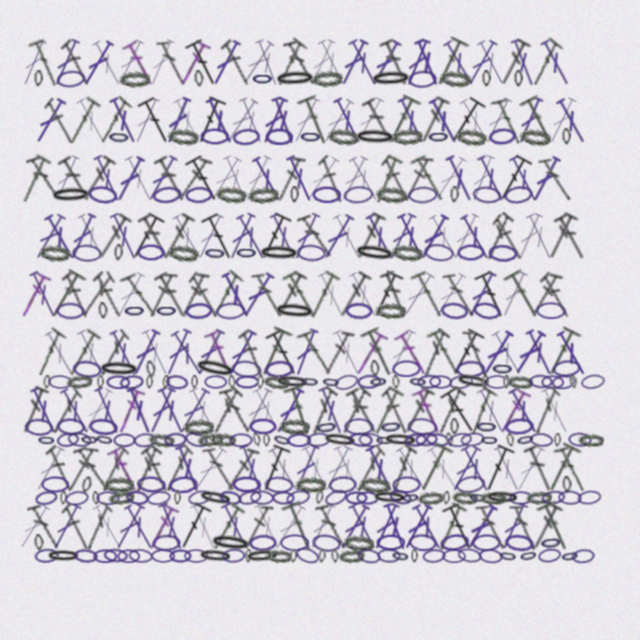chain: (193, 356, 237, 381), (353, 242, 396, 264), (209, 532, 252, 554), (273, 301, 316, 321), (274, 69, 316, 88), (370, 69, 412, 88), (354, 128, 396, 146), (50, 186, 92, 204), (258, 244, 300, 262), (98, 360, 140, 378), (197, 488, 234, 508), (455, 372, 491, 391), (423, 242, 455, 263), (472, 300, 502, 322), (87, 184, 118, 205), (503, 184, 534, 205), (455, 474, 486, 495), (439, 532, 470, 553), (322, 431, 358, 449), (455, 127, 487, 147), (519, 127, 551, 147), (247, 185, 279, 205), (167, 243, 199, 263), (231, 359, 262, 379), (311, 533, 342, 553), (311, 69, 343, 88), (439, 69, 471, 88), (167, 127, 199, 146), (327, 127, 359, 146), (391, 127, 423, 146), (215, 185, 247, 204), (375, 185, 407, 204), (391, 243, 423, 262), (56, 69, 86, 89), (152, 185, 182, 205), (472, 185, 502, 205), (72, 359, 102, 379), (88, 417, 118, 437), (504, 533, 534, 553), (343, 185, 374, 204), (407, 417, 438, 436), (232, 127, 261, 147), (440, 301, 469, 321), (56, 417, 86, 436), (504, 417, 534, 436), (136, 475, 166, 494), (168, 475, 198, 494), (294, 545, 321, 566), (275, 374, 310, 390), (383, 432, 418, 448), (198, 548, 233, 564), (245, 548, 280, 564), (119, 70, 150, 88), (39, 244, 70, 262), (183, 418, 214, 436), (359, 476, 390, 494), (343, 534, 374, 552), (488, 127, 517, 146), (552, 359, 581, 378), (328, 475, 357, 494), (408, 533, 437, 552), (323, 487, 349, 508), (72, 244, 102, 262), (296, 244, 326, 262), (264, 360, 294, 378), (333, 372, 360, 392), (24, 418, 54, 436), (183, 430, 210, 450), (264, 476, 294, 494), (375, 302, 406, 319), (279, 418, 310, 435), (103, 476, 134, 493), (295, 476, 326, 493), (372, 490, 407, 505), (485, 490, 520, 505), (408, 70, 437, 88), (408, 186, 437, 204), (488, 244, 517, 262), (56, 302, 85, 320), (216, 302, 245, 320), (456, 360, 485, 378), (152, 534, 181, 552), (536, 302, 566, 319), (344, 418, 374, 435), (185, 186, 213, 204), (185, 302, 213, 320), (345, 302, 373, 320), (249, 534, 277, 552), (314, 417, 339, 437), (187, 488, 213, 507), (237, 488, 263, 507), (285, 488, 311, 507), (200, 128, 229, 145), (312, 186, 341, 203), (392, 360, 421, 377), (232, 476, 261, 493), (392, 476, 421, 493), (280, 534, 309, 551), (376, 534, 405, 551), (472, 534, 501, 551), (46, 549, 81, 563), (265, 128, 293, 145), (137, 244, 165, 261), (457, 244, 485, 261), (249, 418, 277, 435), (41, 476, 69, 493), (388, 488, 413, 507), (448, 373, 474, 391), (447, 431, 473, 449), (64, 489, 90, 507), (146, 489, 172, 507), (356, 547, 382, 565), (66, 373, 93, 390), (197, 431, 224, 448), (108, 489, 135, 506), (379, 417, 403, 436), (539, 533, 563, 552), (34, 489, 59, 507), (218, 489, 243, 507), (580, 373, 606, 390), (107, 128, 131, 146), (203, 244, 227, 262), (263, 374, 290, 390), (148, 432, 175, 448), (417, 490, 444, 506), (338, 548, 365, 564), (67, 431, 92, 448), (460, 431, 485, 448), (541, 489, 566, 506), (577, 489, 602, 506), (457, 547, 482, 564), (537, 547, 562, 564), (507, 374, 533, 390), (56, 431, 80, 448), (125, 489, 149, 506), (119, 374, 144, 390), (551, 374, 576, 390), (358, 432, 383, 448), (425, 432, 450, 448), (529, 432, 554, 448), (73, 548, 98, 564), (128, 548, 153, 564), (478, 548, 503, 564), (271, 431, 293, 449), (251, 70, 274, 87), (299, 128, 322, 145), (427, 128, 450, 145), (235, 244, 258, 261), (123, 302, 146, 319), (155, 302, 178, 319), (491, 360, 514, 377), (475, 418, 498, 435), (210, 432, 236, 447), (452, 490, 478, 505), (526, 490, 552, 505), (165, 374, 189, 390), (133, 432, 157, 448), (404, 432, 428, 448), (422, 548, 446, 564), (571, 548, 595, 564), (306, 432, 331, 447), (348, 432, 373, 447), (34, 548, 59, 563), (103, 548, 128, 563), (578, 433, 604, 447), (480, 491, 506, 505), (266, 549, 292, 563), (357, 374, 381, 389), (417, 374, 441, 389), (529, 374, 553, 389), (568, 432, 592, 447), (250, 490, 274, 505), (558, 490, 582, 505), (377, 548, 401, 563), (94, 431, 115, 448), (515, 431, 536, 448), (518, 547, 539, 564), (164, 432, 187, 447), (415, 432, 438, 447), (222, 548, 245, 563), (48, 375, 72, 389), (106, 375, 130, 389), (235, 375, 259, 389), (485, 375, 509, 389), (229, 433, 253, 447), (287, 433, 311, 447), (96, 491, 120, 505), (509, 491, 533, 505), (93, 549, 117, 563), (151, 549, 175, 563), (184, 549, 208, 563), (390, 548, 411, 564), (442, 549, 466, 563), (204, 375, 227, 389), (429, 375, 452, 389), (541, 375, 564, 389), (113, 433, 136, 447), (272, 491, 295, 505), (345, 491, 368, 505), (356, 491, 379, 505), (117, 549, 140, 563), (169, 549, 192, 563), (321, 374, 341, 390), (498, 548, 518, 564), (560, 548, 580, 564), (300, 374, 320, 389), (408, 374, 428, 389), (468, 490, 488, 505), (369, 374, 388, 389), (80, 432, 99, 447), (401, 490, 420, 505), (37, 433, 56, 447), (375, 433, 394, 447), (480, 433, 499, 447), (80, 476, 93, 494), (145, 360, 157, 378), (194, 70, 204, 87), (98, 302, 108, 319), (370, 360, 380, 377), (562, 476, 572, 493), (34, 534, 44, 551), (34, 70, 43, 87), (482, 70, 491, 87), (514, 70, 523, 87), (562, 128, 571, 145), (290, 186, 299, 203), (450, 186, 459, 203), (114, 244, 123, 261), (450, 418, 459, 435), (252, 432, 262, 447), (569, 374, 578, 389), (445, 432, 454, 447), (315, 490, 324, 505), (506, 433, 515, 447), (43, 375, 51, 389), (162, 375, 170, 389), (228, 375, 236, 389), (392, 375, 400, 389), (481, 375, 489, 389), (92, 491, 100, 505), (318, 549, 326, 563), (331, 549, 339, 563), (97, 375, 104, 389), (146, 375, 153, 389), (191, 375, 198, 389), (257, 375, 264, 389), (503, 375, 510, 389), (263, 433, 270, 447), (554, 433, 561, 447), (60, 491, 67, 505), (174, 491, 181, 505), (443, 491, 450, 505), (245, 549, 252, 563), (290, 549, 297, 563), (411, 549, 418, 563)
double: (503, 268, 545, 321), (445, 95, 487, 147), (45, 269, 87, 321), (439, 385, 481, 437), (519, 94, 560, 147), (493, 153, 534, 205), (430, 36, 470, 89), (382, 94, 422, 147), (542, 326, 582, 379), (414, 442, 454, 495), (542, 442, 582, 495), (119, 270, 161, 320), (136, 95, 176, 147), (184, 153, 224, 205), (126, 211, 166, 263), (264, 327, 304, 379), (446, 327, 486, 379), (360, 326, 399, 379), (536, 500, 575, 553), (189, 444, 230, 494), (62, 95, 102, 146), (94, 95, 134, 146), (62, 327, 102, 378), (296, 327, 336, 378), (206, 501, 246, 552), (184, 37, 223, 89), (200, 211, 239, 263), (174, 501, 213, 553), (255, 326, 293, 379), (281, 500, 319, 553), (398, 270, 438, 320), (526, 37, 565, 88), (206, 269, 245, 320), (255, 211, 293, 263), (367, 269, 405, 321), (473, 269, 511, 321), (441, 501, 479, 553), (297, 94, 334, 147), (238, 38, 278, 87), (222, 96, 262, 145), (302, 154, 342, 203), (440, 38, 479, 88), (30, 96, 69, 146), (318, 96, 357, 146), (456, 96, 495, 146), (78, 154, 117, 204), (206, 154, 245, 204), (30, 212, 69, 262), (94, 212, 133, 262), (318, 212, 357, 262), (238, 270, 277, 320), (430, 270, 469, 320), (168, 328, 207, 378), (478, 328, 517, 378), (488, 328, 527, 378), (510, 328, 549, 378), (174, 386, 213, 436), (392, 444, 431, 494), (14, 502, 53, 552), (270, 502, 309, 552), (462, 502, 501, 552), (271, 37, 309, 88), (537, 37, 575, 88), (143, 153, 181, 204), (409, 153, 447, 204), (281, 269, 319, 320), (303, 269, 341, 320), (345, 269, 383, 320), (425, 327, 463, 378), (367, 385, 405, 436), (191, 95, 228, 147), (479, 443, 516, 495), (430, 154, 469, 203), (424, 444, 463, 493), (79, 38, 117, 88), (57, 154, 95, 204), (345, 154, 383, 204), (41, 212, 79, 262), (425, 212, 463, 262), (153, 270, 191, 320), (335, 270, 373, 320), (41, 328, 79, 378), (351, 328, 389, 378), (393, 328, 431, 378), (553, 328, 591, 378), (265, 444, 303, 494), (89, 502, 127, 552), (335, 502, 373, 552), (345, 37, 382, 88), (473, 37, 510, 88), (351, 95, 388, 146), (15, 153, 52, 204), (121, 153, 158, 204), (409, 269, 446, 320), (463, 269, 500, 320), (31, 327, 68, 378), (73, 327, 110, 378), (329, 327, 366, 378), (185, 385, 222, 436), (239, 385, 276, 436), (249, 385, 286, 436), (473, 385, 510, 436), (537, 385, 574, 436), (319, 443, 356, 494), (553, 443, 590, 494), (345, 501, 382, 552), (431, 501, 468, 552), (490, 95, 526, 147), (368, 153, 404, 205), (256, 443, 292, 495), (89, 38, 126, 88), (121, 38, 158, 88), (175, 38, 212, 88), (367, 38, 404, 88), (463, 38, 500, 88), (73, 96, 110, 146), (361, 96, 398, 146), (425, 96, 462, 146), (553, 96, 590, 146), (111, 154, 148, 204), (153, 154, 190, 204), (249, 154, 286, 204), (527, 154, 564, 204), (137, 212, 174, 262), (159, 212, 196, 262), (169, 212, 206, 262), (233, 212, 270, 262), (329, 212, 366, 262), (415, 212, 452, 262), (457, 212, 494, 262), (553, 212, 590, 262), (111, 270, 148, 320), (223, 328, 260, 378), (57, 386, 94, 436), (79, 386, 116, 436), (271, 386, 308, 436), (345, 386, 382, 436), (495, 386, 532, 436), (505, 386, 542, 436), (31, 444, 68, 494), (447, 444, 484, 494), (511, 444, 548, 494), (111, 502, 148, 552), (121, 502, 158, 552), (399, 502, 436, 552), (409, 502, 446, 552), (314, 37, 350, 88), (202, 95, 238, 146), (288, 95, 324, 146), (330, 95, 366, 146), (544, 95, 580, 146), (74, 211, 110, 262), (106, 211, 142, 262), (266, 211, 302, 262), (522, 211, 558, 262), (192, 327, 228, 378), (298, 443, 334, 494), (78, 271, 117, 318), (464, 385, 499, 437), (297, 212, 334, 261), (207, 386, 244, 435), (73, 444, 110, 493), (283, 384, 317, 437), (208, 38, 244, 88), (496, 38, 532, 88), (170, 96, 206, 146), (336, 154, 372, 204), (506, 154, 542, 204), (362, 212, 398, 262), (16, 270, 52, 320), (218, 270, 254, 320), (272, 270, 308, 320), (314, 270, 350, 320), (106, 328, 142, 378), (400, 386, 436, 436), (106, 444, 142, 494), (362, 444, 398, 494), (458, 444, 494, 494), (48, 502, 84, 552), (144, 502, 180, 552), (528, 502, 564, 552), (175, 155, 213, 202), (112, 37, 147, 88), (336, 37, 371, 88), (106, 95, 141, 146), (394, 95, 429, 146), (416, 95, 451, 146), (480, 95, 515, 146), (90, 153, 125, 204), (240, 153, 275, 204), (442, 153, 477, 204), (474, 153, 509, 204), (192, 211, 227, 262), (224, 211, 259, 262), (352, 211, 387, 262), (384, 211, 419, 262), (394, 211, 429, 262), (448, 211, 483, 262), (544, 211, 579, 262), (26, 269, 61, 320), (128, 327, 163, 378), (138, 327, 173, 378), (384, 327, 419, 378), (522, 327, 557, 378), (144, 385, 179, 436), (154, 385, 189, 436), (330, 443, 365, 494), (490, 443, 525, 494), (218, 501, 253, 552), (496, 501, 531, 552), (223, 445, 260, 493), (27, 37, 61, 89), (26, 154, 62, 203), (336, 386, 372, 435), (49, 37, 83, 88), (305, 37, 339, 88), (379, 37, 413, 88), (129, 95, 163, 146), (161, 95, 195, 146), (257, 95, 291, 146), (49, 153, 83, 204), (219, 153, 253, 204), (283, 153, 317, 204), (65, 211, 99, 262), (289, 211, 323, 262), (497, 269, 531, 320), (161, 327, 195, 378), (203, 327, 237, 378), (27, 385, 61, 436), (411, 385, 445, 436), (289, 443, 323, 494), (523, 443, 557, 494), (187, 501, 221, 552), (251, 501, 285, 552), (305, 501, 339, 552), (369, 501, 403, 552), (538, 155, 574, 203), (490, 213, 526, 261), (186, 271, 222, 319), (48, 387, 84, 435), (480, 212, 515, 261), (442, 270, 477, 319), (528, 270, 563, 319), (432, 386, 467, 435), (202, 444, 237, 493), (283, 38, 317, 88), (417, 328, 451, 378), (305, 386, 339, 436), (129, 444, 163, 494), (27, 502, 61, 552), (17, 37, 50, 88), (145, 37, 178, 88), (251, 37, 284, 88), (401, 37, 434, 88), (411, 37, 444, 88), (507, 37, 540, 88), (235, 95, 268, 146), (513, 95, 546, 146), (513, 211, 546, 262), (379, 269, 412, 320), (91, 385, 124, 436), (113, 385, 146, 436), (123, 385, 156, 436), (315, 385, 348, 436), (155, 501, 188, 552), (42, 97, 77, 145), (538, 271, 573, 319), (96, 329, 131, 377), (352, 445, 387, 493), (59, 38, 93, 87), (219, 38, 253, 87), (379, 154, 413, 203), (91, 270, 125, 319), (251, 270, 285, 319), (321, 328, 355, 377), (65, 444, 99, 493), (97, 444, 131, 493), (161, 444, 195, 493), (59, 502, 93, 551), (219, 386, 252, 436), (385, 444, 418, 494), (315, 502, 348, 552), (466, 153, 498, 204), (290, 327, 322, 378), (18, 385, 50, 436), (172, 443, 204, 494), (236, 443, 268, 494), (401, 154, 434, 203), (379, 386, 412, 435), (139, 444, 172, 493), (241, 502, 274, 551), (475, 502, 508, 551), (268, 95, 299, 146), (380, 501, 411, 552), (156, 38, 188, 87), (274, 154, 306, 203), (60, 270, 92, 319), (146, 270, 178, 319), (178, 270, 210, 319), (530, 386, 562, 435), (44, 444, 76, 493), (82, 502, 114, 551), (316, 154, 347, 204), (237, 328, 267, 378), (509, 502, 539, 552), (462, 328, 490, 378)
